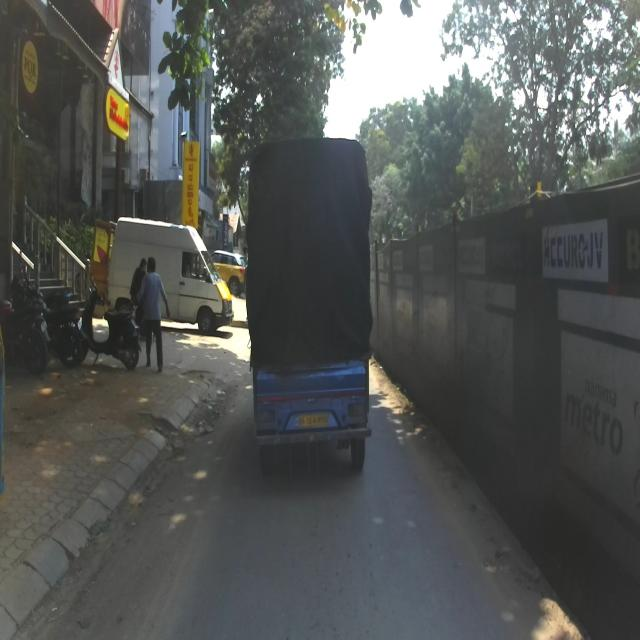car: (206, 247, 246, 298)
motorcycle: (11, 279, 82, 368), (0, 298, 51, 376)
scooter: (76, 276, 142, 370)
truck: (245, 137, 372, 476), (105, 217, 232, 337)
